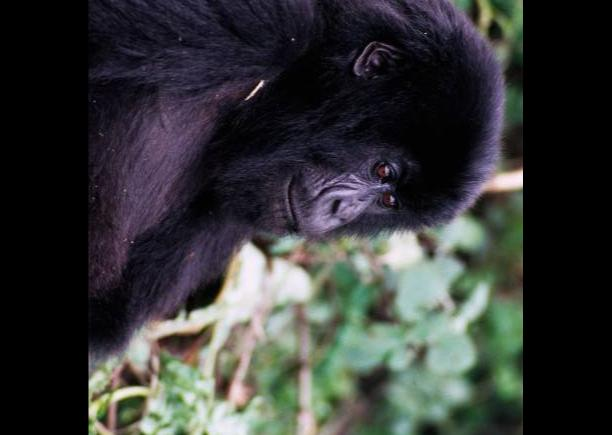goriile_montagne: (88, 0, 506, 403)
